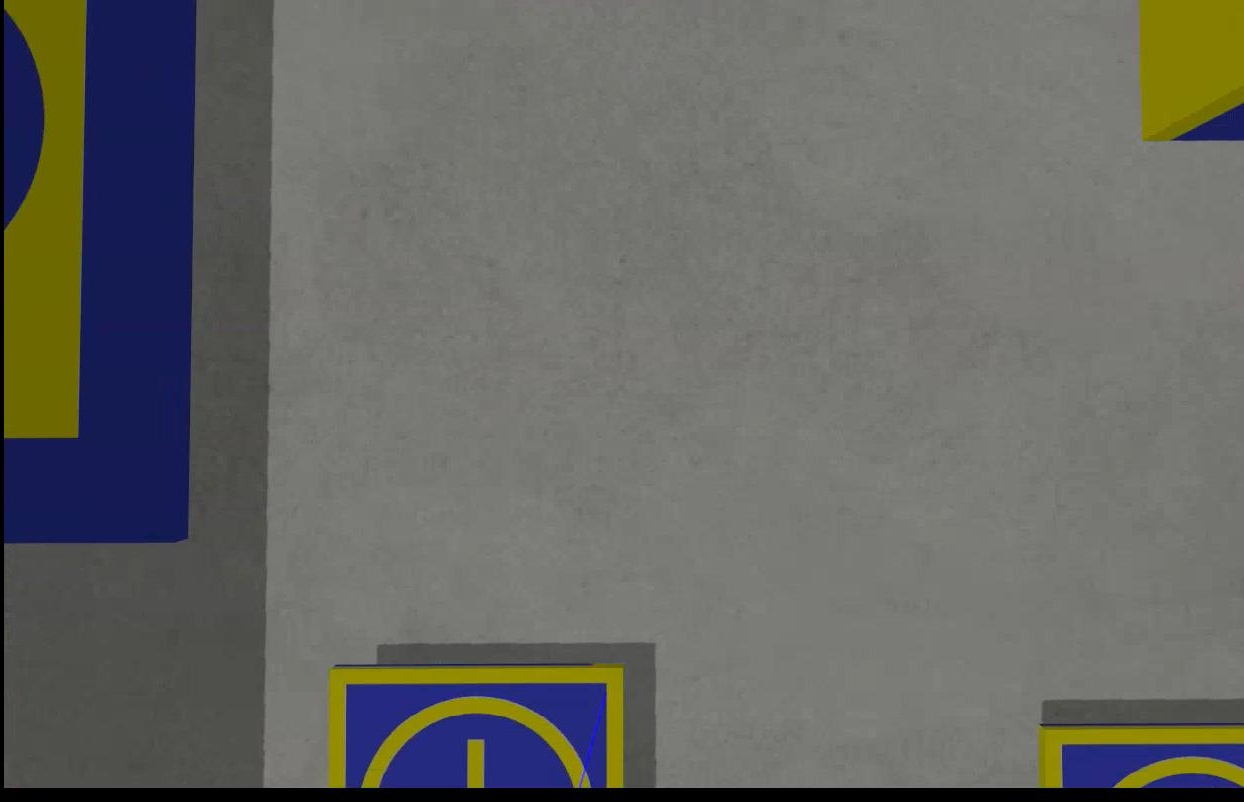large_base: (3, 2, 196, 540)
small_base: (326, 662, 626, 788), (1033, 722, 1242, 788)
